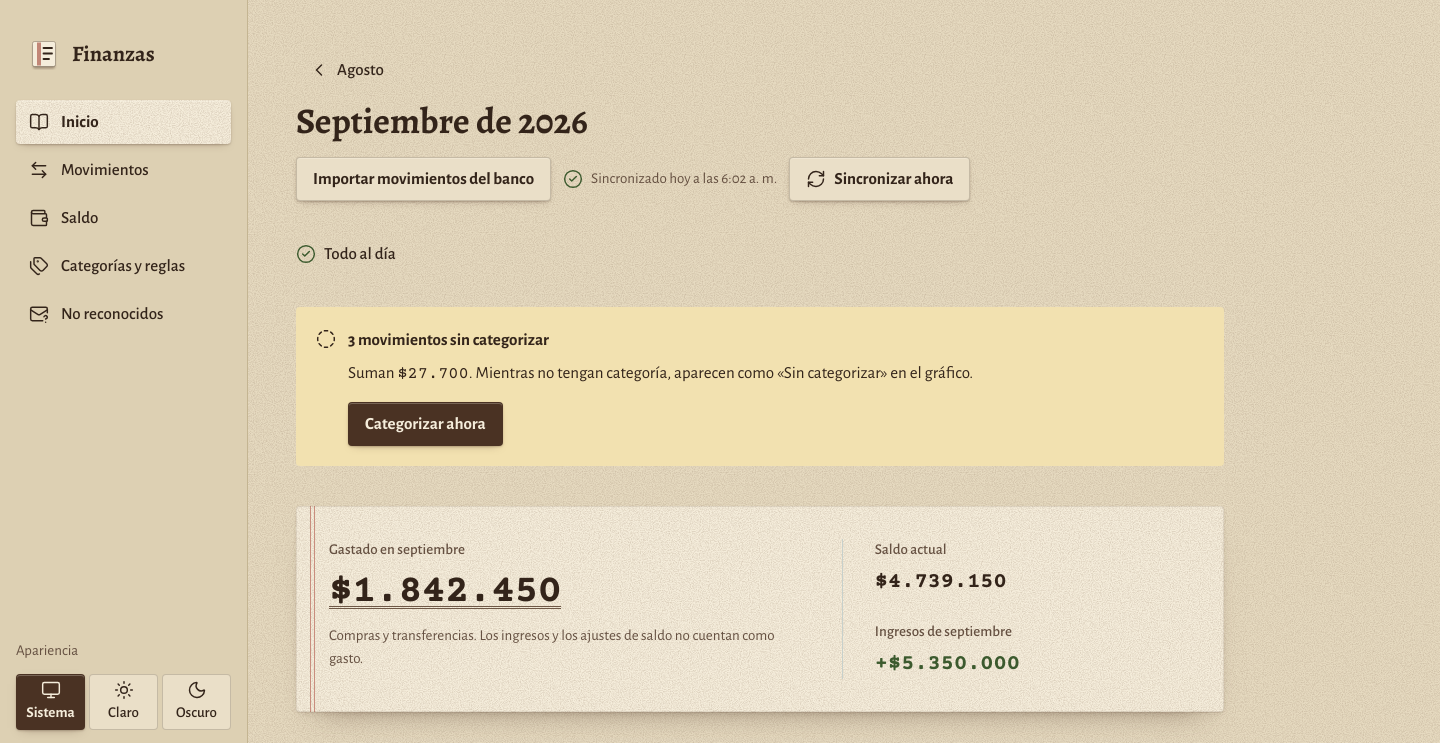
Inicio: sincronización › si la sesión se cerró (401), vuelve a «Entrar» y lo dice
Click the button "Sincronizar ahora" at (880, 179), box [789,157,970,201]
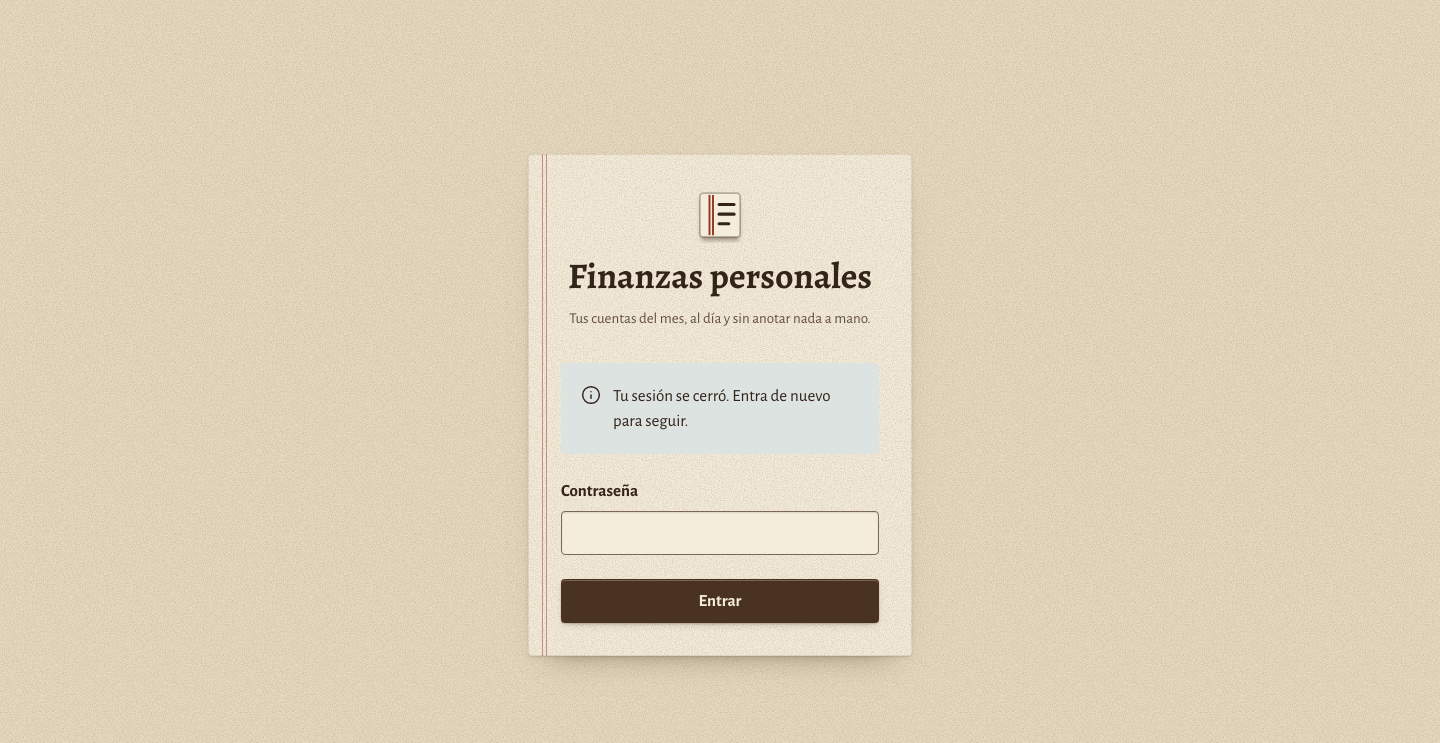
Now the text "Tu sesión se cerró. Entra de nuevo para seguir." is shown, box [613,383,859,434]
Now the password field labelled "Contraseña" is shown, box [561,511,879,555]
